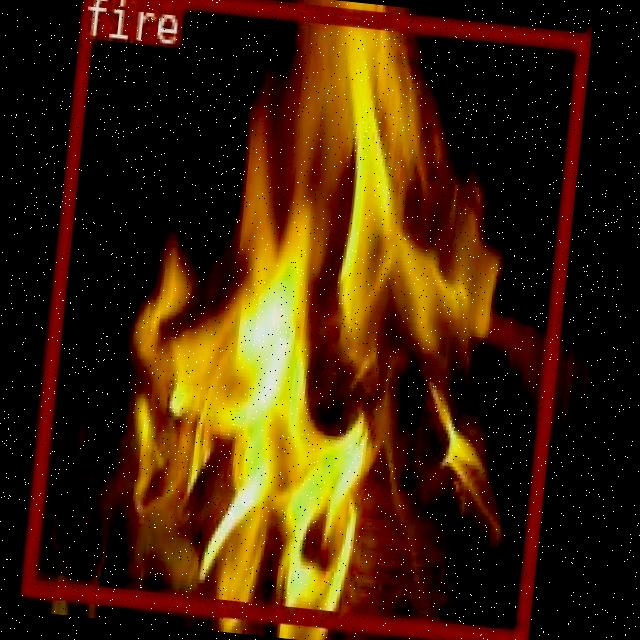fire: (20, 0, 588, 640)
